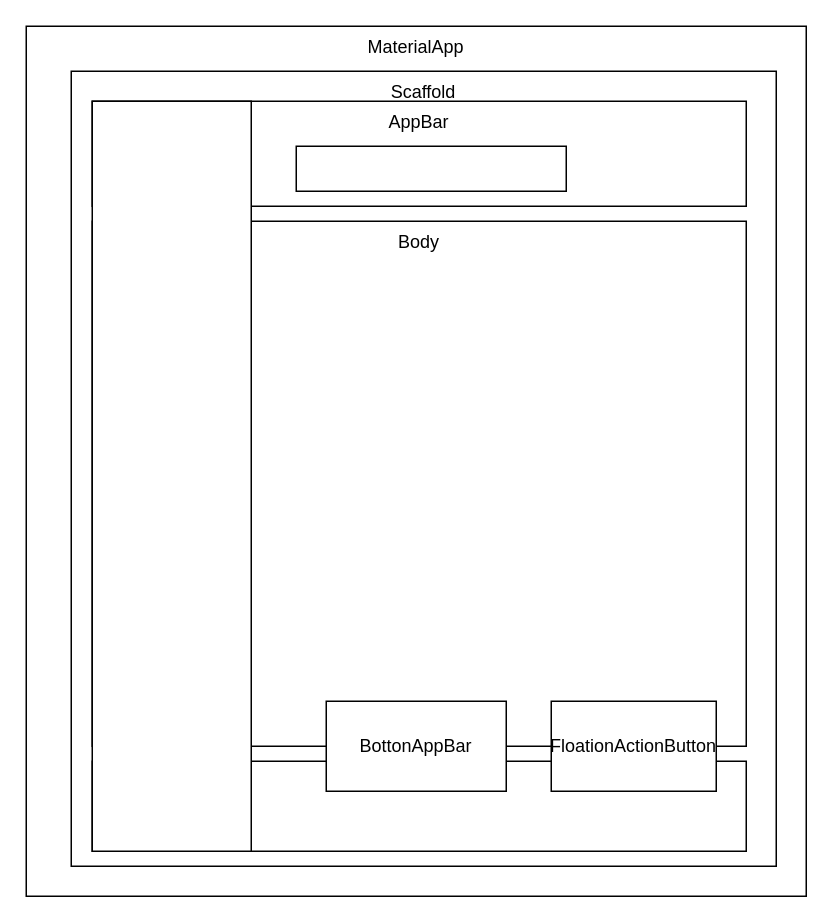
The diagram is 833 pixels wide and 923 high, and some of its shapes have lost their labels. Here are the shapes that lost their labels. From the top down, the centre of each, then its label:
At pixel 430 168: "Title".
At pixel 171 475: "drawer".
At pixel 418 805: "BotomNavigationBar".
